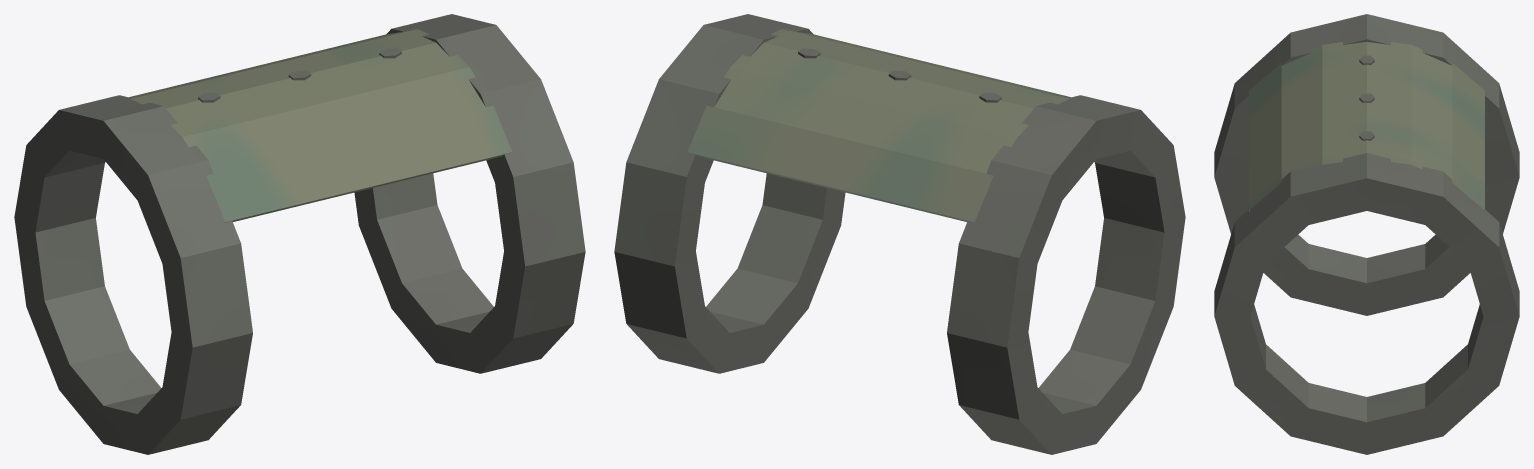
File: WarrensC_PWC18_PipeRepairWrap_Mars_SM.fbx
The picture shows the model from 3 angles, left to right: view 1: azimuth 30°, elevation 25°; view 2: azimuth 150°, elevation 25°; view 3: azimuth 270°, elevation 25°; orthographic projection. The views are drawn at different scales.
Visible parts, largest first — view 1: WarrensC_PWC18_PipeRepairWrap_Mars_SM.001; view 2: WarrensC_PWC18_PipeRepairWrap_Mars_SM.001; view 3: WarrensC_PWC18_PipeRepairWrap_Mars_SM.001.
Part boxes in pixels (box(x1,y1,x2,y2)): WarrensC_PWC18_PipeRepairWrap_Mars_SM.001: box(14, 14, 585, 454); WarrensC_PWC18_PipeRepairWrap_Mars_SM.001: box(614, 14, 1185, 454); WarrensC_PWC18_PipeRepairWrap_Mars_SM.001: box(1214, 14, 1519, 454).
Size of the model in its own units: 70 by 55 by 55.
